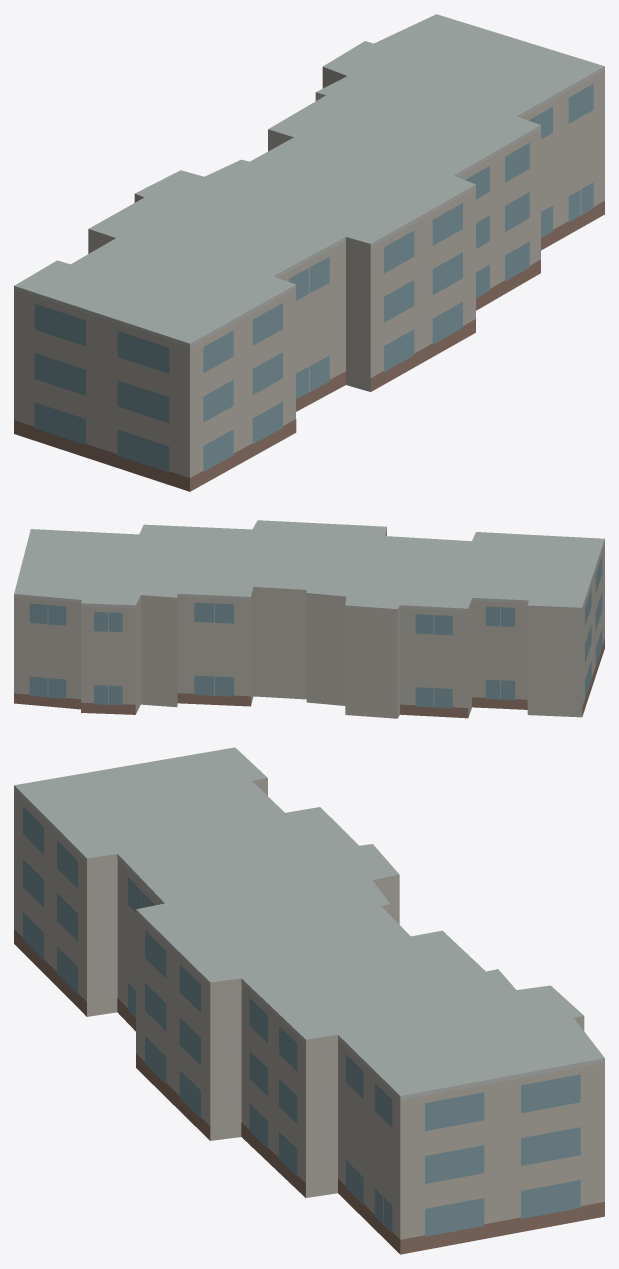
Rendered from survey-upis-33008055.glb.
3 views of the same model, one above another, from view 1: azimuth 30°, elevation 25°; view 2: azimuth 150°, elevation 25°; view 3: azimuth 270°, elevation 25° (orthographic). The views are drawn at different scales.
Visible parts, largest first — view 1: survey-upis-33008055.tmp; view 2: survey-upis-33008055.tmp; view 3: survey-upis-33008055.tmp.
Boxes of the visible parts, left/top/right/bottom form: survey-upis-33008055.tmp: left=14, top=14, right=604, bottom=491; survey-upis-33008055.tmp: left=14, top=520, right=604, bottom=718; survey-upis-33008055.tmp: left=14, top=747, right=604, bottom=1254.
Size of the model in its own units: 43.2 by 9.15 by 30.93.
